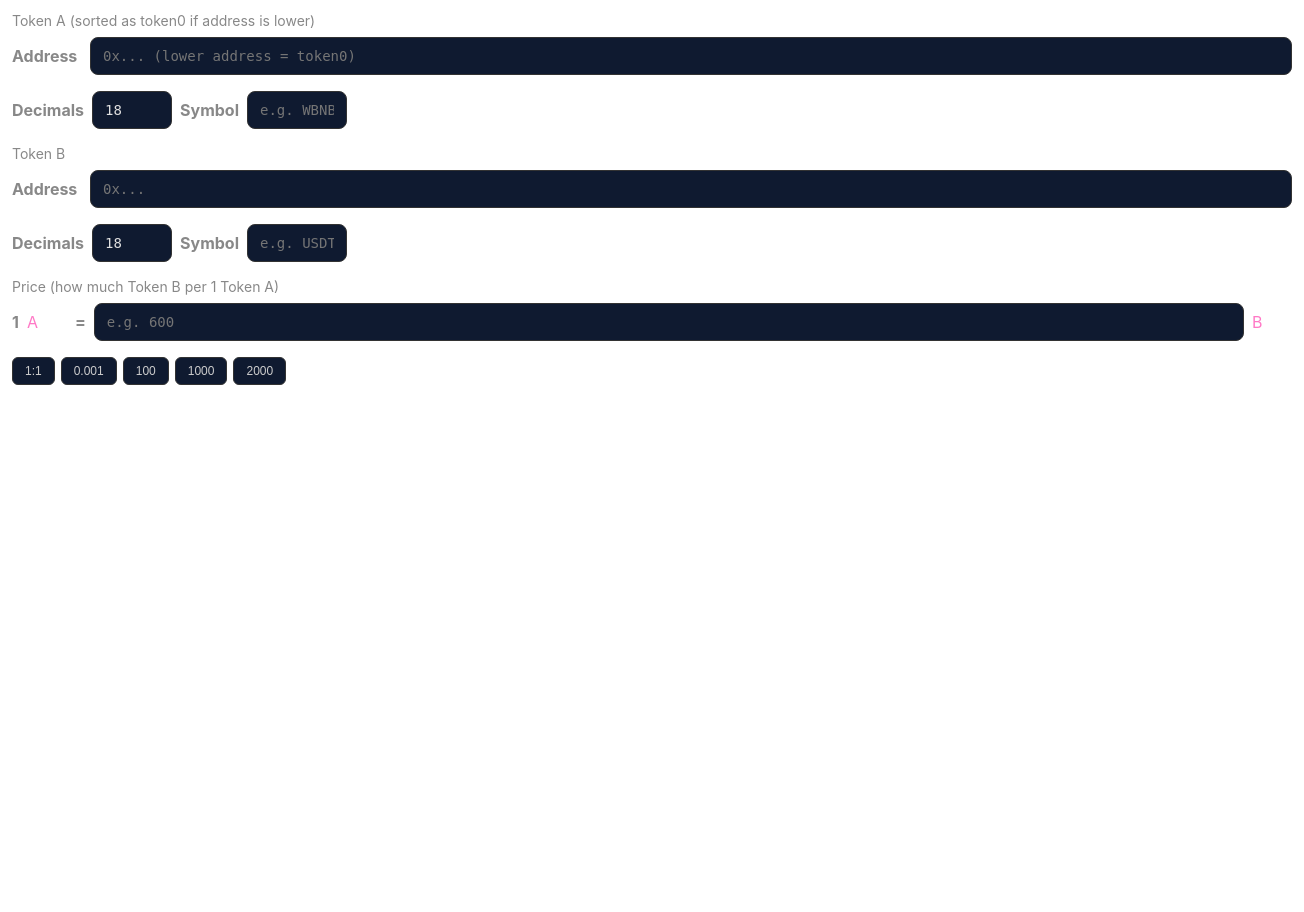
it: SqrtPriceX96 › shows results for valid inputs
Type "0x0000000000000000000000000000000000000001" into the field with placeholder "0x... (lower address = token0)" at (691, 56), box [90,37,1292,75]
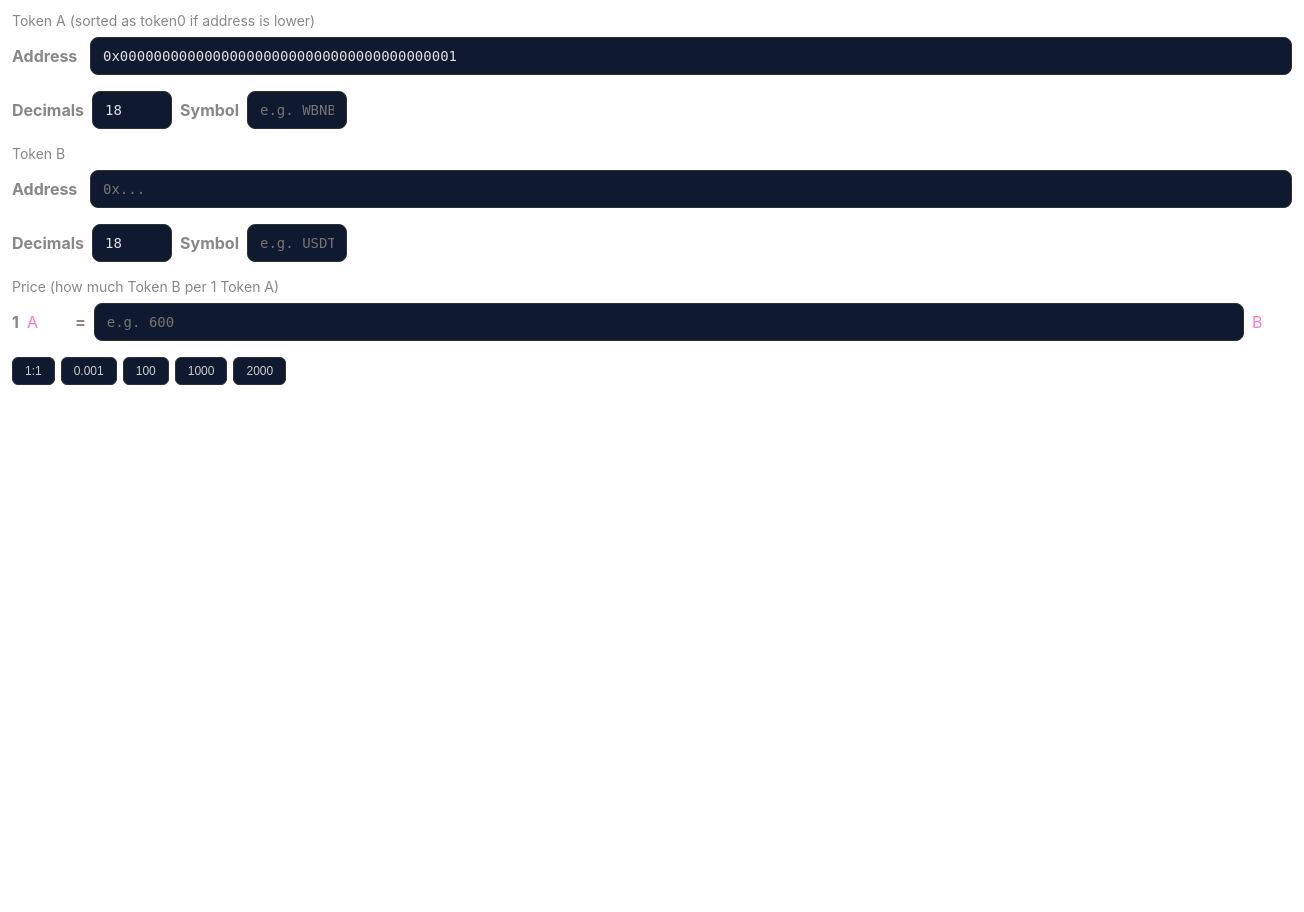
Type "0x0000000000000000000000000000000000000002" into the field with placeholder "0x..." at (691, 189), box [90,170,1292,208]
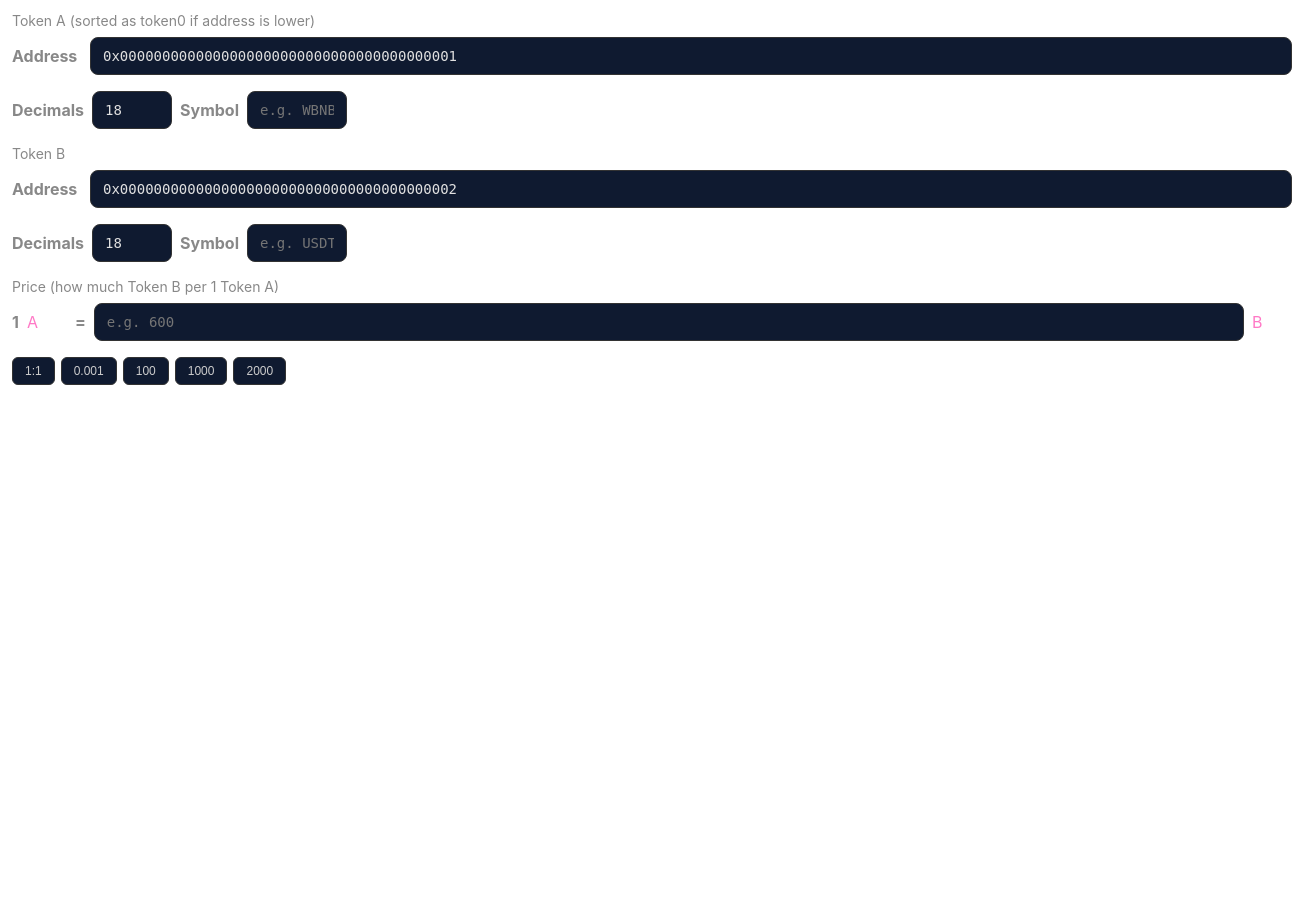
Type "600" into the field with placeholder "e.g. 600" at (669, 322), box [94,303,1244,341]
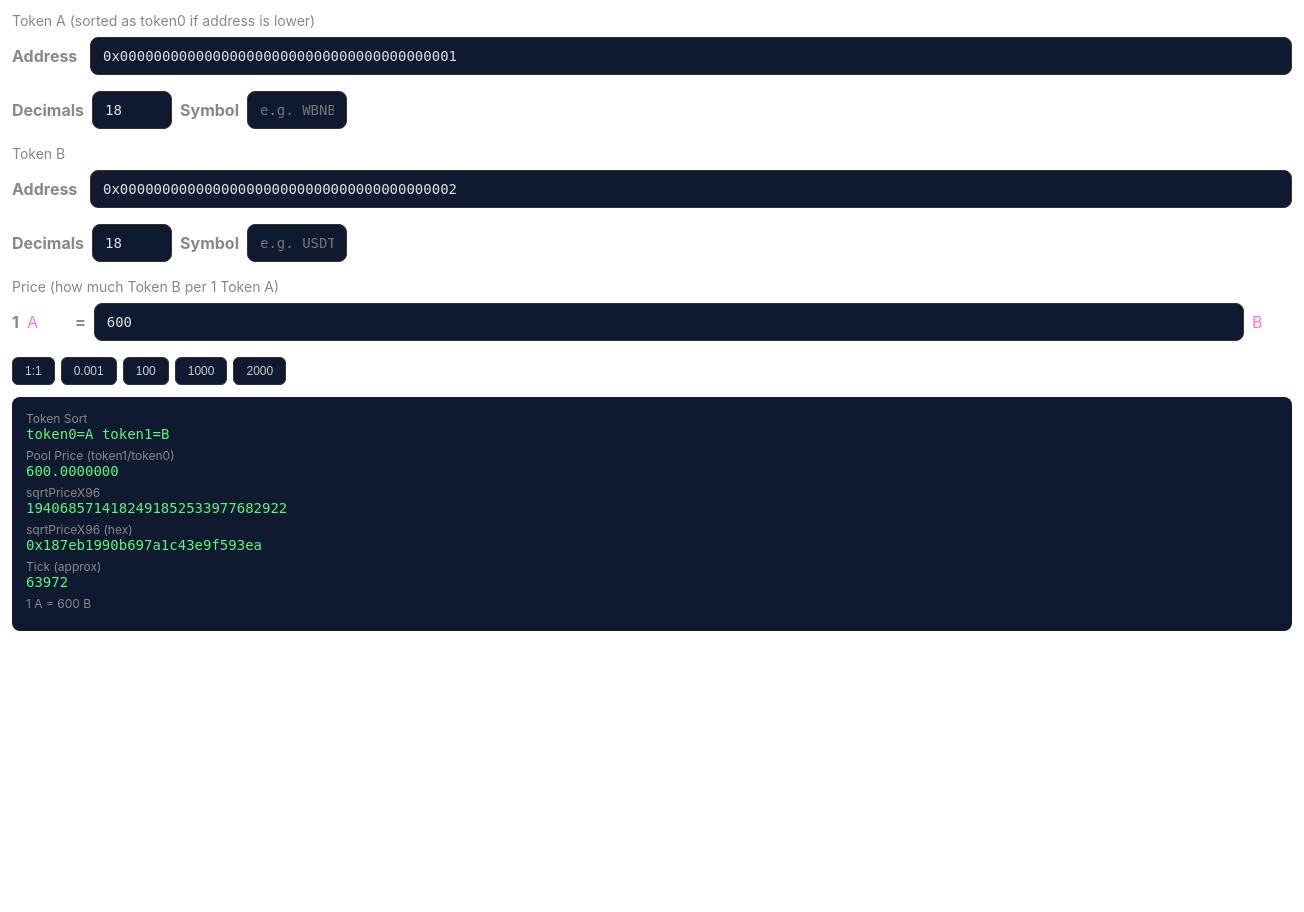
Expected: the element with class "tool-result" is shown, [12,397,1292,631]
Expected: the text "sqrtPriceX96" is shown, [26,485,100,500]
Expected: the text "Tick (approx)" is shown, [26,559,102,574]
